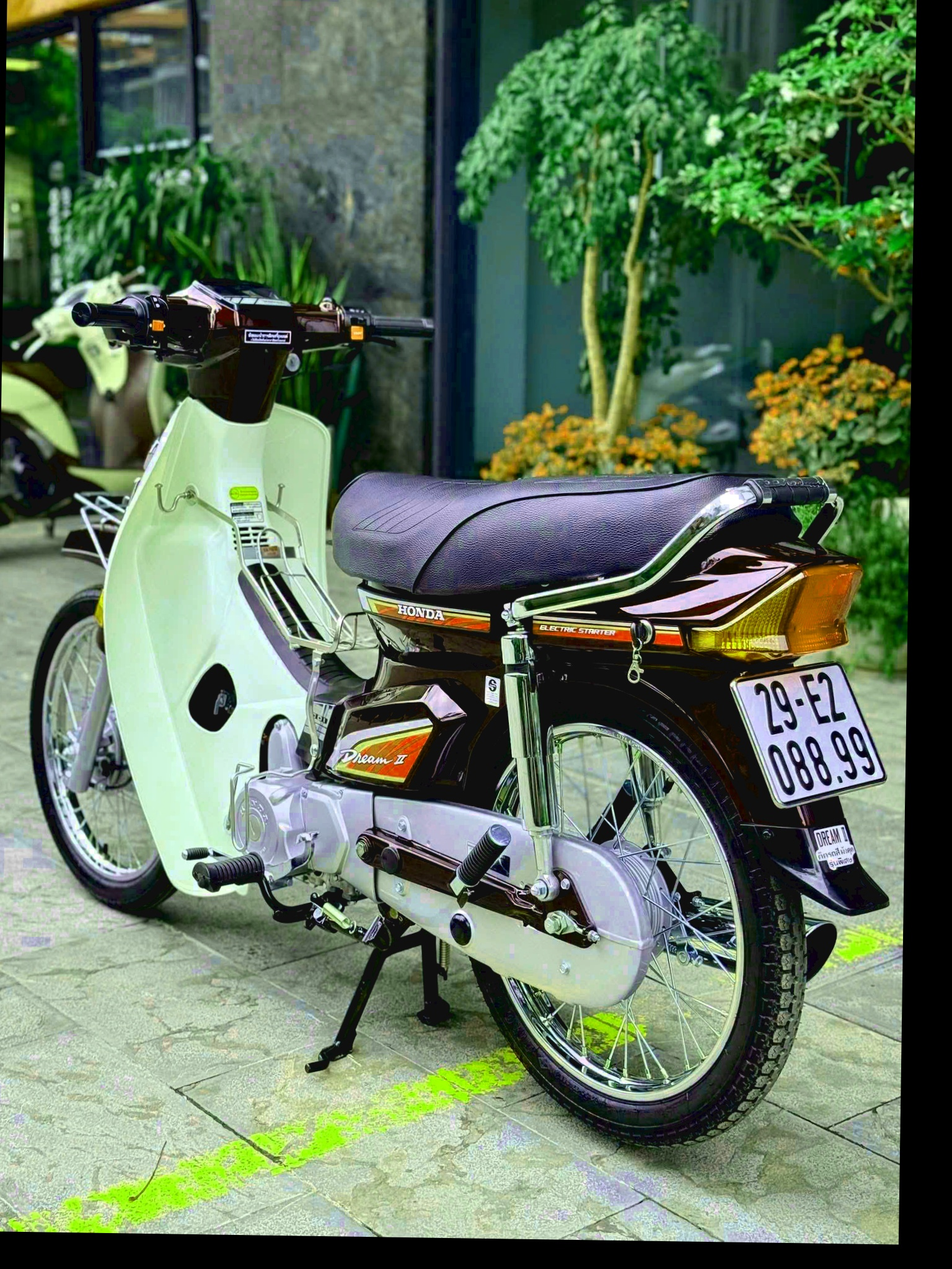Bien-so: (782, 618, 952, 783)
